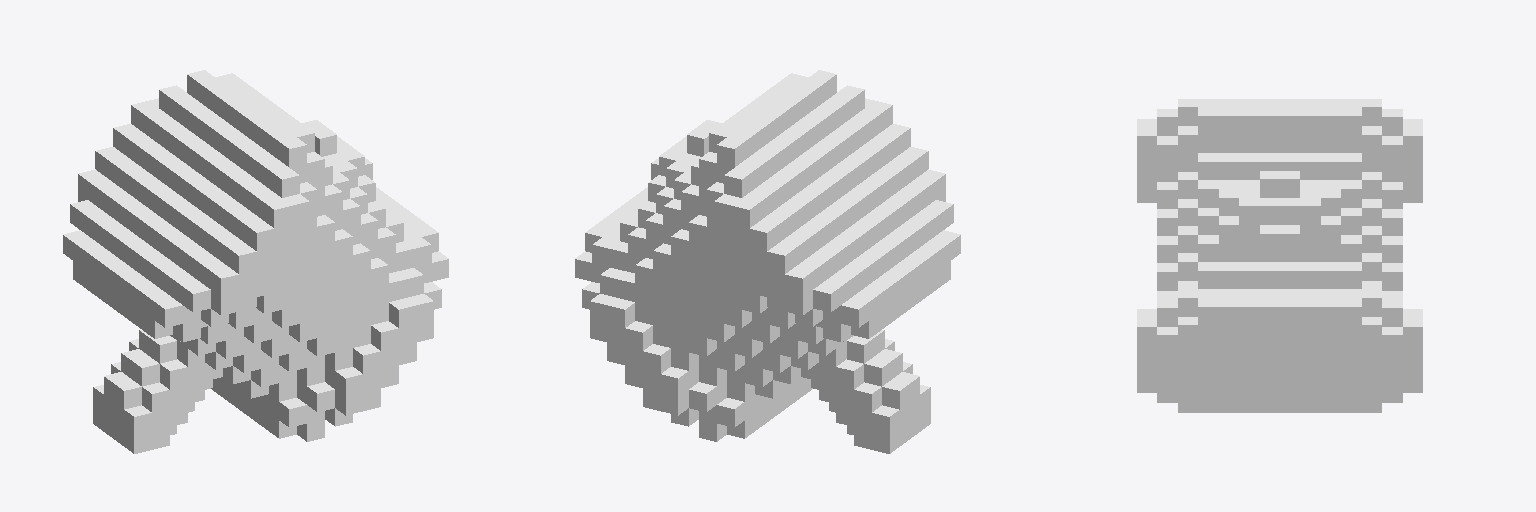
File: HammerTurn.vox.obj
3 views of the same model, side by side, from view 1: azimuth 30°, elevation 25°; view 2: azimuth 150°, elevation 25°; view 3: azimuth 270°, elevation 25° (orthographic).
Parts seen in each view (by area): view 1: object 1; view 2: object 1; view 3: object 1.
Part boxes in pixels (x1,y1,x2,y2): object 1: (63, 70, 448, 453); object 1: (575, 70, 960, 453); object 1: (1137, 99, 1422, 412).
Size of the model in its own units: 1.6 by 1.6 by 1.4.